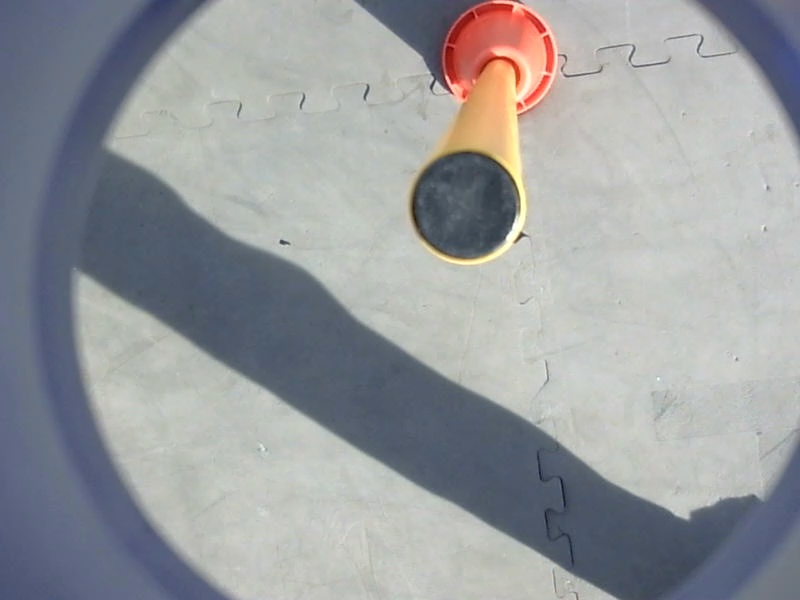tip: (401, 139, 533, 273)
